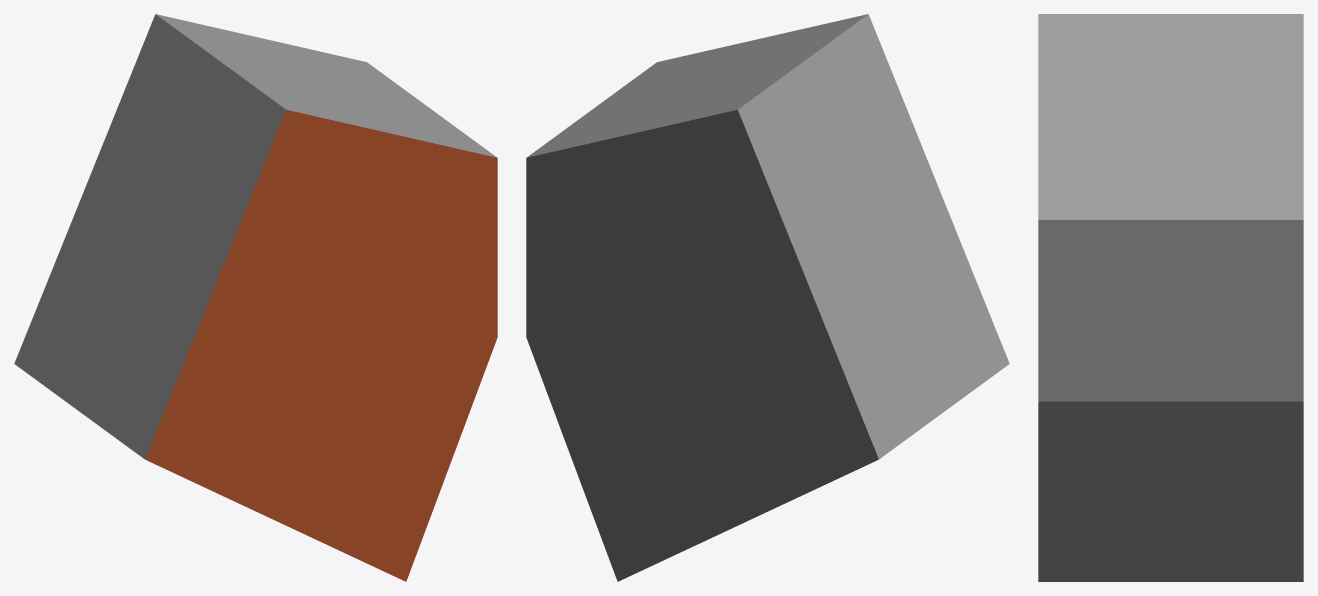
The model's file is construction_1806_assumed_A_Casa_h6m.obj.
3 views of the same model, side by side, from view 1: azimuth 30°, elevation 25°; view 2: azimuth 150°, elevation 25°; view 3: azimuth 270°, elevation 25° (orthographic).
Visible parts, largest first — view 1: construction_1806_assumed_A_Casa; view 2: construction_1806_assumed_A_Casa; view 3: construction_1806_assumed_A_Casa.
Boxes of the visible parts, x1=… form: construction_1806_assumed_A_Casa: x1=14, y1=14, x2=497, y2=581; construction_1806_assumed_A_Casa: x1=526, y1=14, x2=1009, y2=581; construction_1806_assumed_A_Casa: x1=1038, y1=14, x2=1303, y2=581.
Size of the model in its own units: 9.35 by 12.7 by 6.
